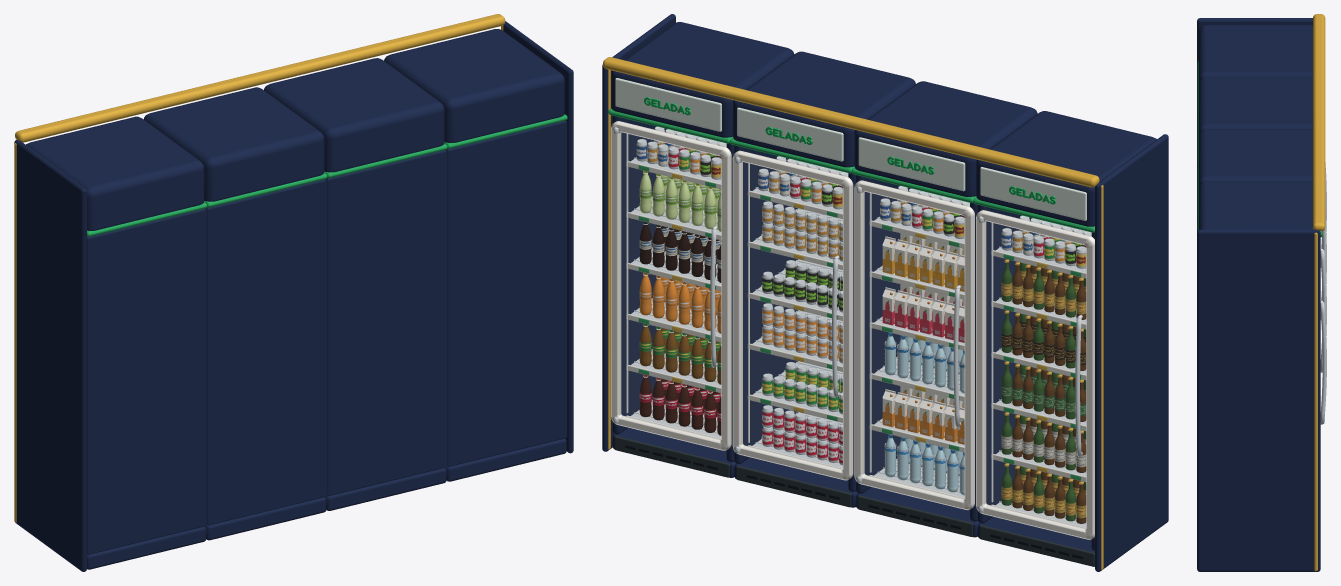
The model's file is sector-bebidas.fbx.
The picture shows the model from 3 angles, left to right: view 1: azimuth 30°, elevation 25°; view 2: azimuth 150°, elevation 25°; view 3: azimuth 270°, elevation 25°; orthographic projection. The views are drawn at different scales.
Visible parts, largest first — view 1: Body; view 2: Body, Anim Fill 3, Anim Fill 2, Anim Fill 0, Anim Fill 1; view 3: Body.
Boxes of the visible parts, box(x1,y1,x2,y2) form: Body: box(14, 14, 573, 571); Body: box(602, 14, 1168, 571); Anim Fill 3: box(1001, 215, 1091, 523); Anim Fill 2: box(880, 186, 969, 495); Anim Fill 0: box(636, 126, 726, 435); Anim Fill 1: box(758, 156, 848, 465); Body: box(1197, 14, 1326, 571).
Size of the model in its own units: 3.29 by 2.5 by 0.8407.
